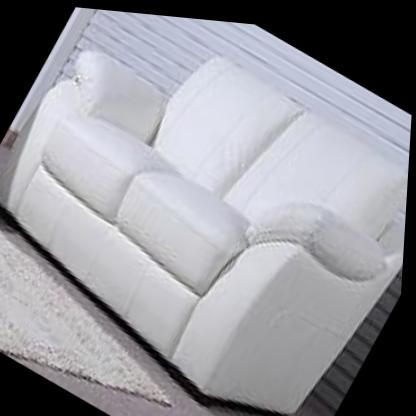Carpet: (0, 223, 168, 397)
Sofa: (0, 0, 416, 416)
